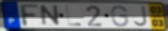2: (85, 5, 104, 28)
F: (17, 3, 41, 28)
G: (110, 5, 130, 28)
J: (133, 5, 149, 28)
L: (64, 5, 83, 27)
N: (40, 4, 62, 27)
